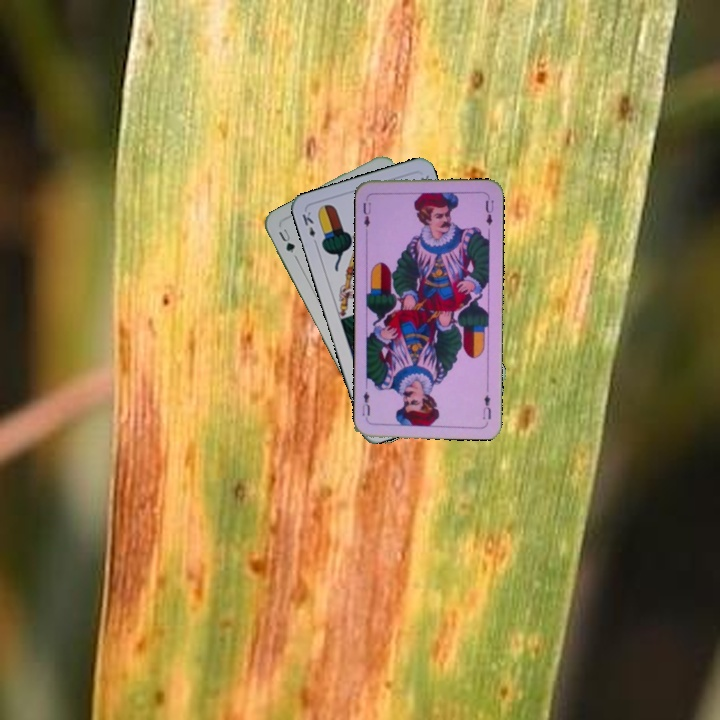EK: (298, 207, 320, 248)
EU: (359, 193, 373, 230), (479, 390, 493, 422)
GU: (274, 224, 297, 256)
